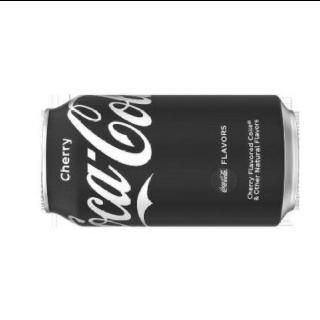alumunium_can: (41, 92, 300, 226)
